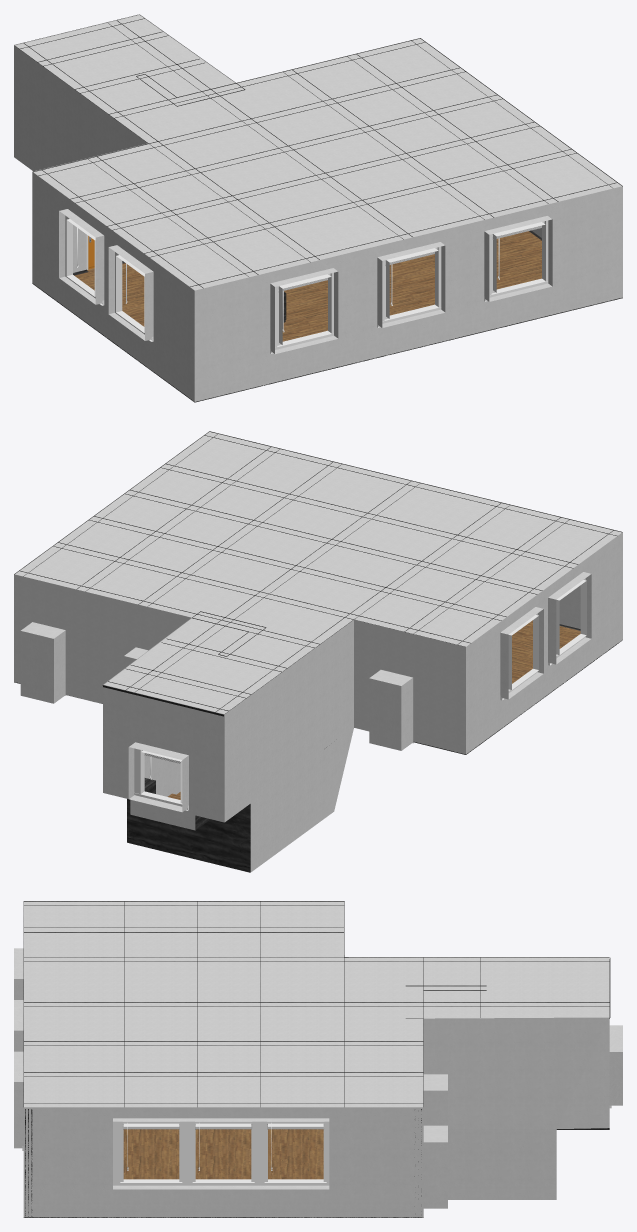
File: flat.fbx
3 views of the same model, one above another, from view 1: azimuth 30°, elevation 25°; view 2: azimuth 150°, elevation 25°; view 3: azimuth 270°, elevation 25° (orthographic). The views are drawn at different scales.
Visible parts, largest first — view 1: Plane; view 2: Plane; view 3: Plane.
Boxes of the visible parts, x1=… form: Plane: x1=14, y1=14, x2=622, y2=402; Plane: x1=14, y1=431, x2=622, y2=872; Plane: x1=14, y1=901, x2=622, y2=1217.
Size of the model in its own units: 20.7 by 8.2 by 24.95.
